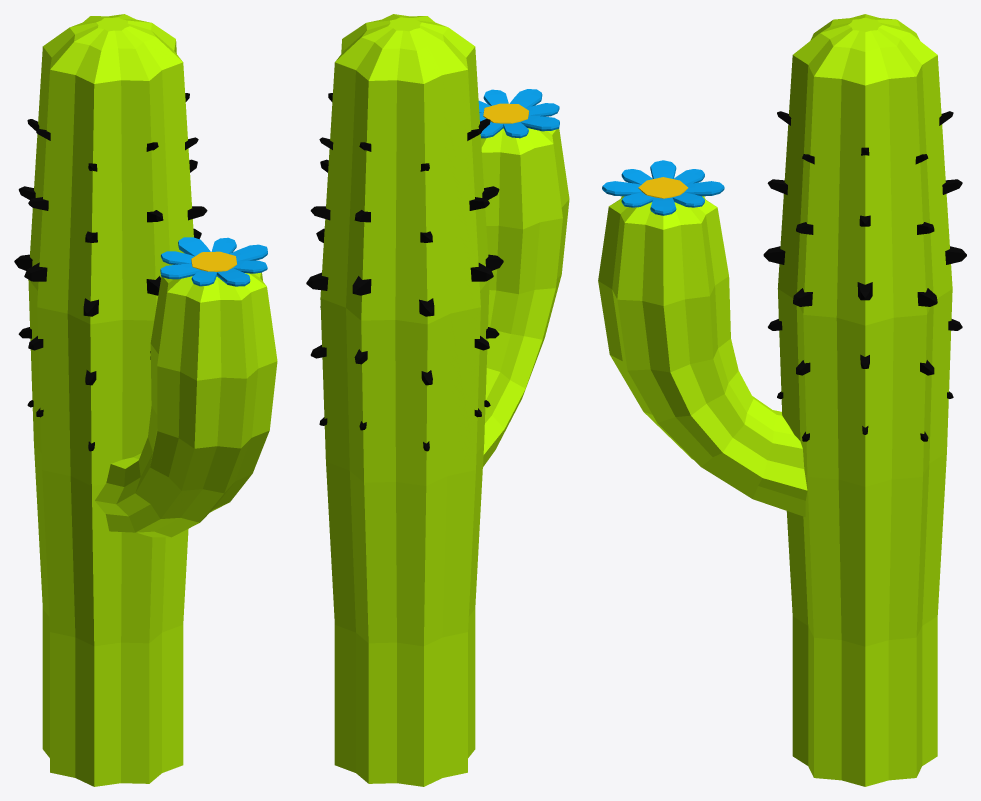
File: Cardon04_01Brazos_Flor_Azul.fbx
3 renders of one model, left to right at view 1: azimuth 30°, elevation 25°; view 2: azimuth 150°, elevation 25°; view 3: azimuth 270°, elevation 25°, orthographic.
Parts seen in each view (by area): view 1: Cactus, Flor_Azul, Espinas; view 2: Cactus, Espinas, Flor_Azul; view 3: Cactus, Espinas, Flor_Azul.
Boxes of the visible parts, x1,y1,x2,y2 form: Cactus: (28,14,277,786); Flor_Azul: (160,237,267,286); Espinas: (14,93,207,451); Cactus: (320,14,569,786); Espinas: (306,93,503,451); Flor_Azul: (478,89,559,138); Cactus: (598,14,952,786); Espinas: (763,111,966,441); Flor_Azul: (602,160,724,215).
Bounding box in the file's own units: 53.18 × 211 × 96.46.
